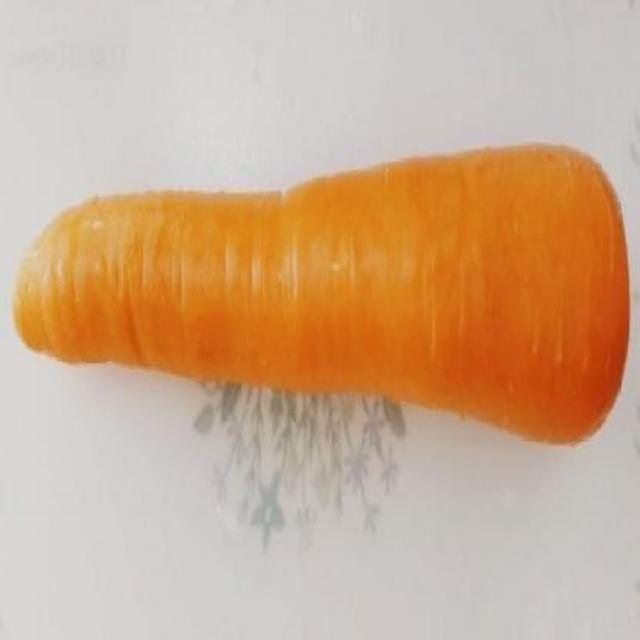carrot: (7, 139, 635, 451)
